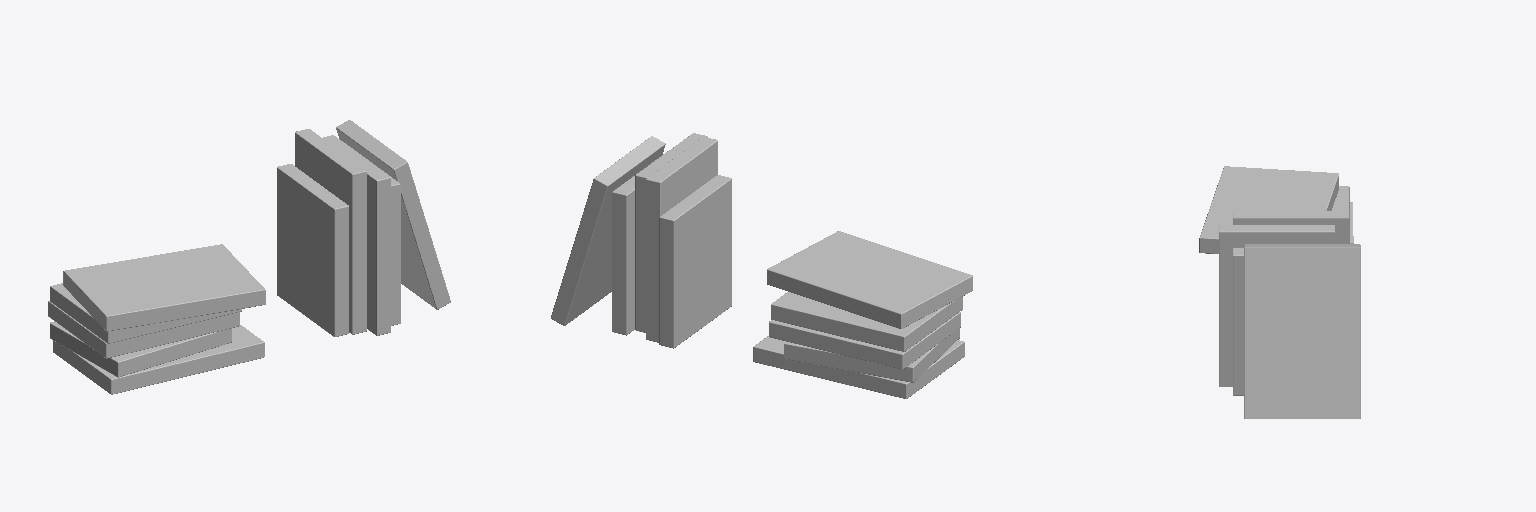
File: book4_1.obj
3 renders of one model, left to right at view 1: azimuth 30°, elevation 25°; view 2: azimuth 150°, elevation 25°; view 3: azimuth 270°, elevation 25°, orthographic.
Visible parts, largest first — view 1: 立方体.11, 立方体.8, 立方体.7, 立方体.3, 立方体.6, 立方体.15, 立方体.14, 立方体.13, 立方体.12, 立方体.5; view 2: 立方体.11, 立方体.8, 立方体.3, 立方体.7, 立方体.12, 立方体.15, 立方体.5, 立方体.13, 立方体.14, 立方体.6; view 3: 立方体.3, 立方体.11, 立方体.6, 立方体.7, 立方体.5.
Part boxes in pixels (x1,y1,x2,y2): 立方体.11: (63,244,265,331); 立方体.8: (277,164,348,336); 立方体.7: (295,129,366,334); 立方体.3: (336,120,450,309); 立方体.6: (323,135,390,335); 立方体.15: (53,325,264,394); 立方体.14: (50,321,231,377); 立方体.13: (48,301,239,358); 立方体.12: (50,283,241,343); 立方体.5: (342,141,400,325); 立方体.11: (767,231,972,328); 立方体.8: (659,175,731,348); 立方体.3: (551,136,665,325); 立方体.7: (646,137,717,342); 立方体.12: (771,292,962,351); 立方体.15: (753,336,964,398); 立方体.5: (612,151,667,335); 立方体.13: (769,312,960,369); 立方体.14: (784,328,959,382); 立方体.6: (635,133,707,332); 立方体.3: (1244,244,1360,418); 立方体.11: (1199,166,1338,253); 立方体.6: (1219,225,1334,386); 立方体.7: (1233,211,1349,243); 立方体.5: (1233,248,1243,395).
Bounding box in the file's own units: 92.56 × 40.37 × 36.4.